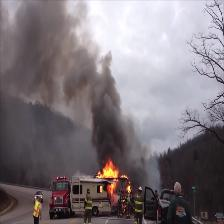fire: (96, 160, 123, 194)
smoke: (21, 2, 90, 110), (91, 65, 122, 157), (125, 126, 156, 183)
